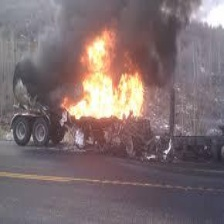fire: (64, 33, 143, 120)
smoke: (67, 4, 187, 30)
